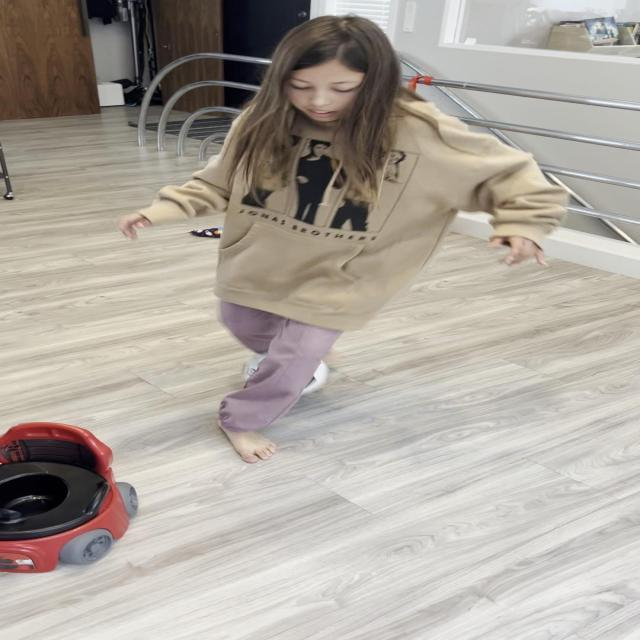Soccer Ball: (247, 350, 331, 394)
